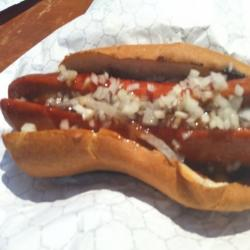hotdog: (6, 44, 250, 222)
